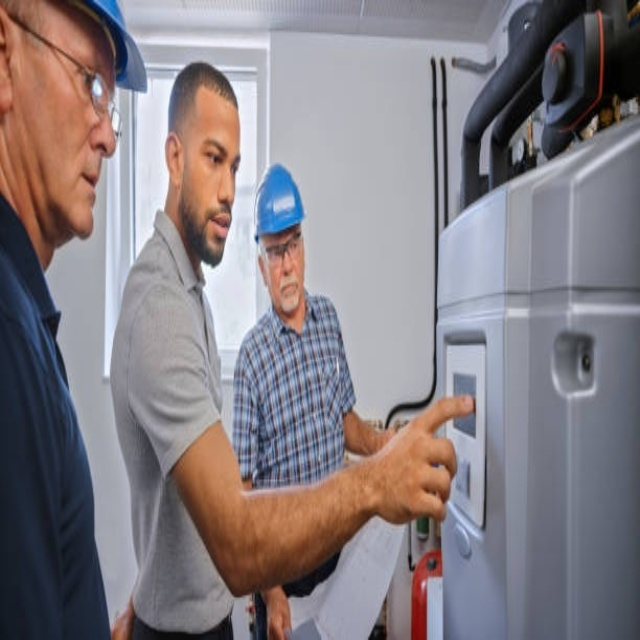Gafas: (8, 14, 125, 143), (261, 230, 302, 266)
Sin_gafas: (190, 122, 241, 183)
Sin_guantes: (371, 388, 476, 526)
Sin_mascara: (66, 158, 105, 230), (199, 203, 235, 256), (276, 268, 298, 315)
